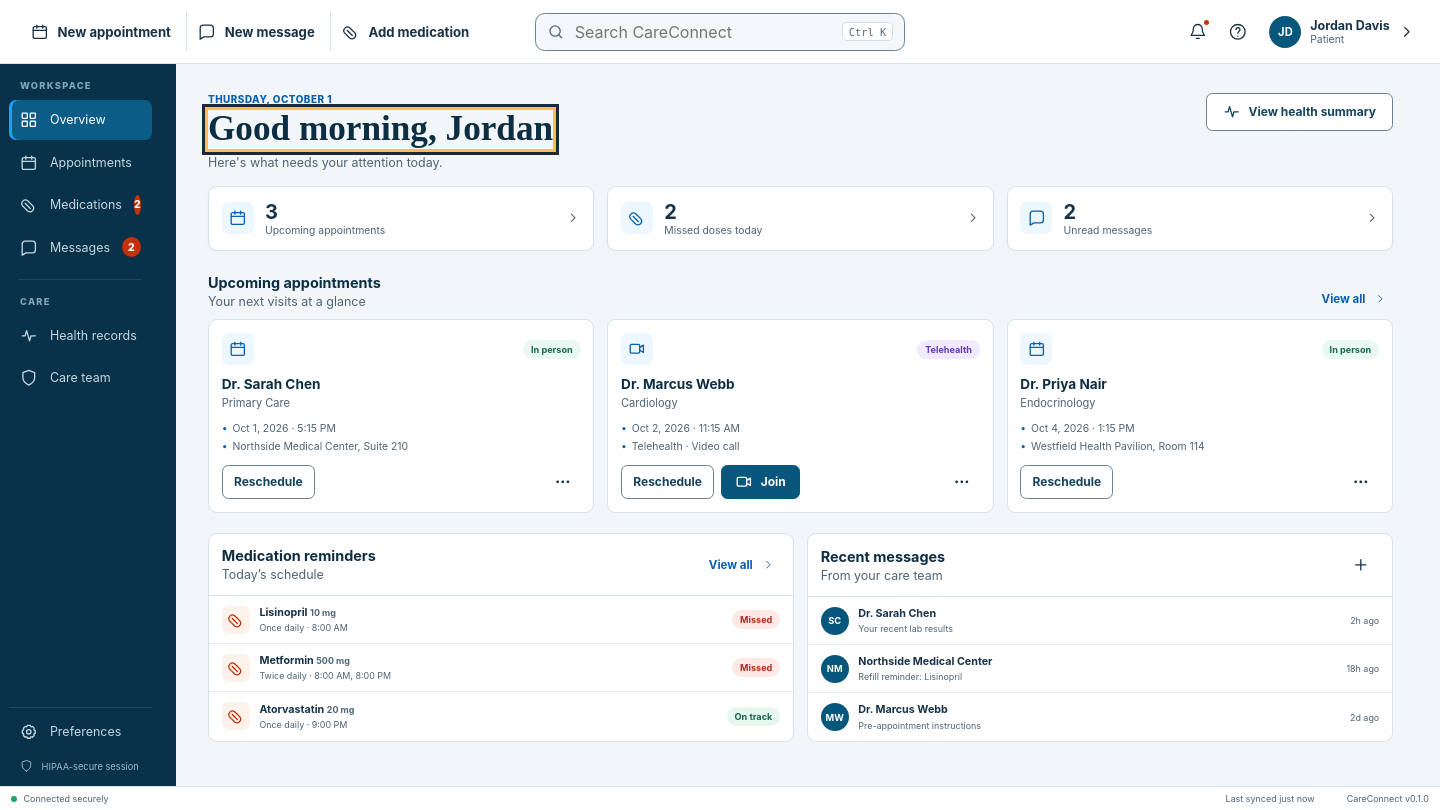
Test: CareConnect app › opens help and closes it with its action
Click the button named "Help" at (1238, 32), box [1220,14,1256,50]
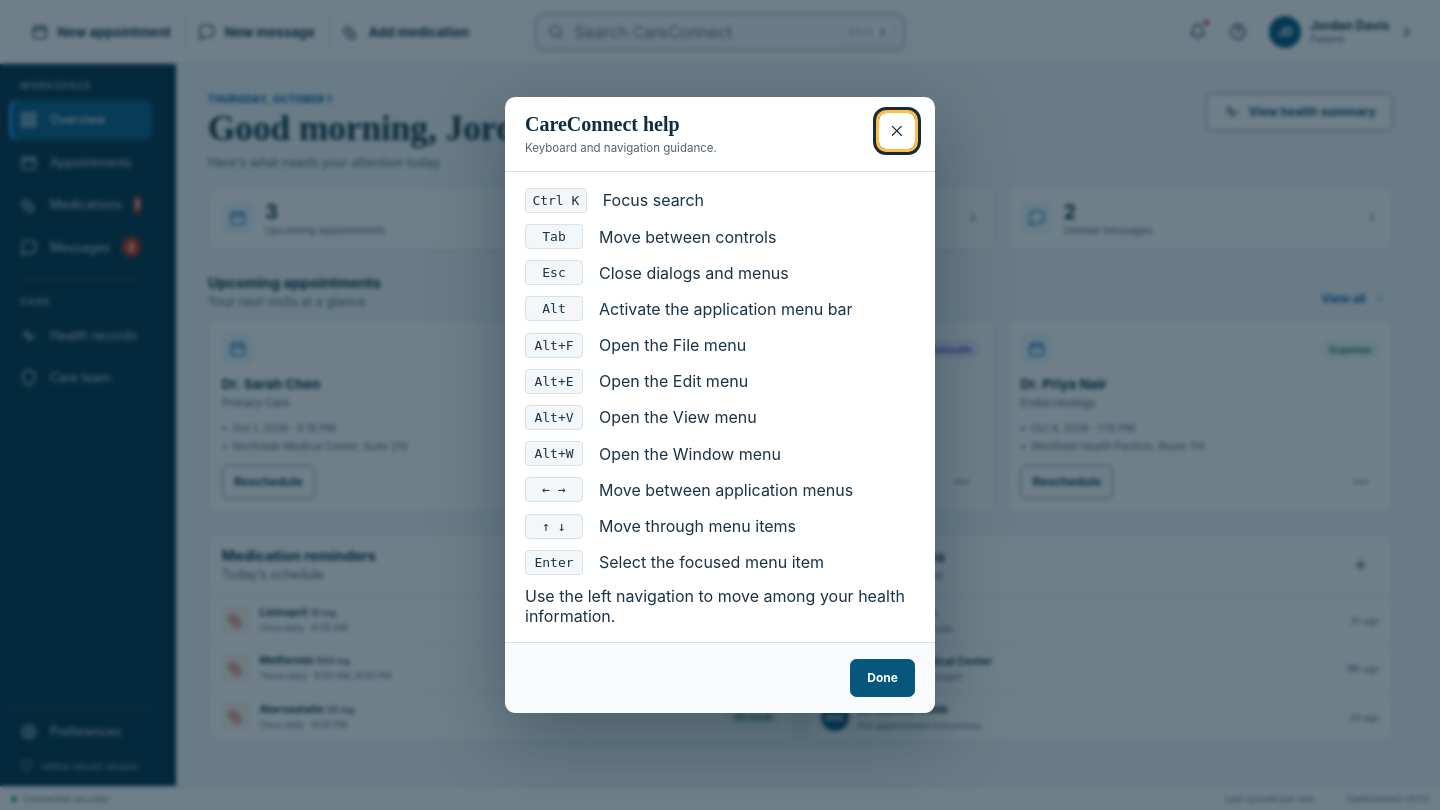
Now the dialog "CareConnect help" is shown, box [505,97,935,713]
Now the text "Focus search" is shown, box [603,190,704,210]
Now the text "Open the File menu" is shown, box [599,335,746,355]
Click the button "Done" at (883, 678), box [850,659,915,697]
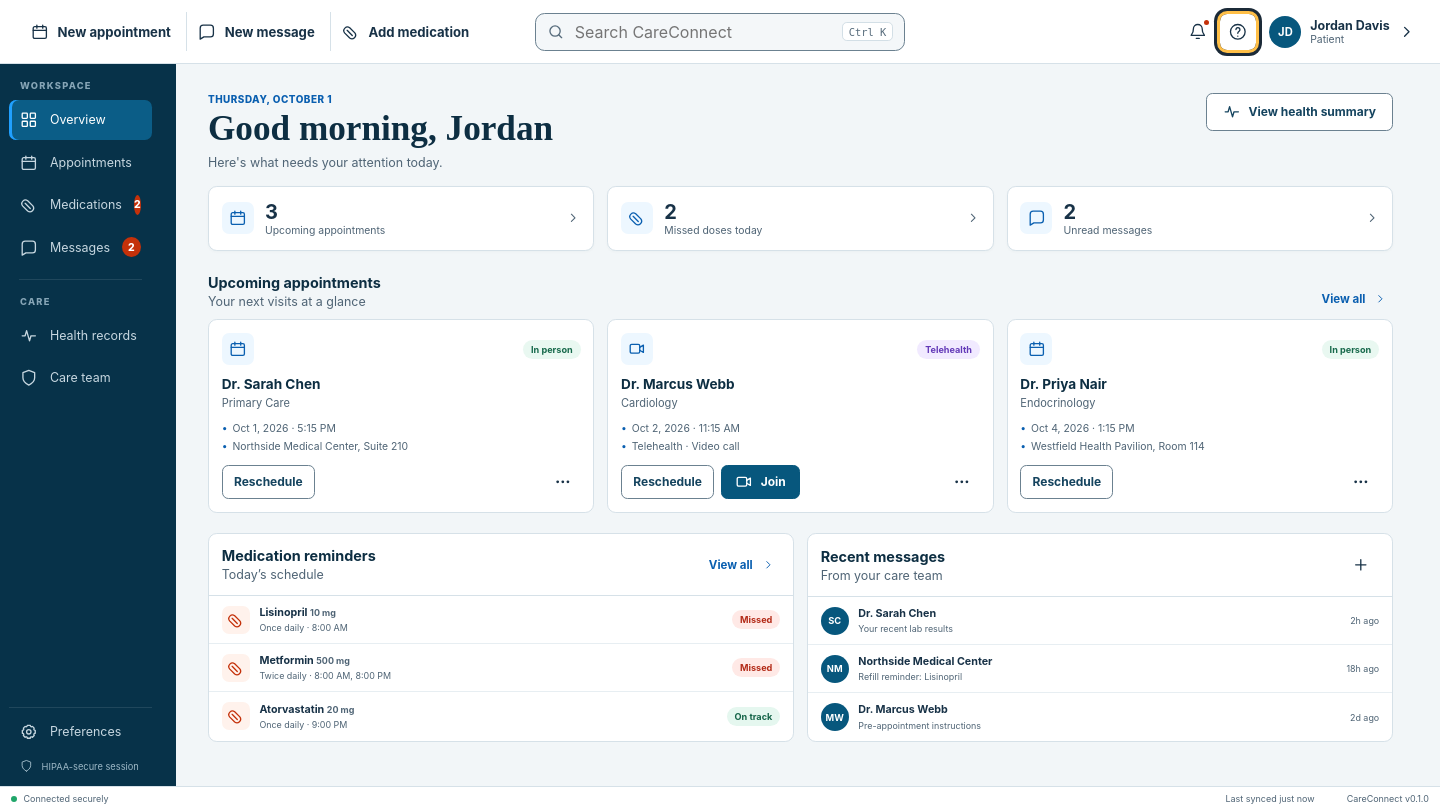
Now the dialog is gone
